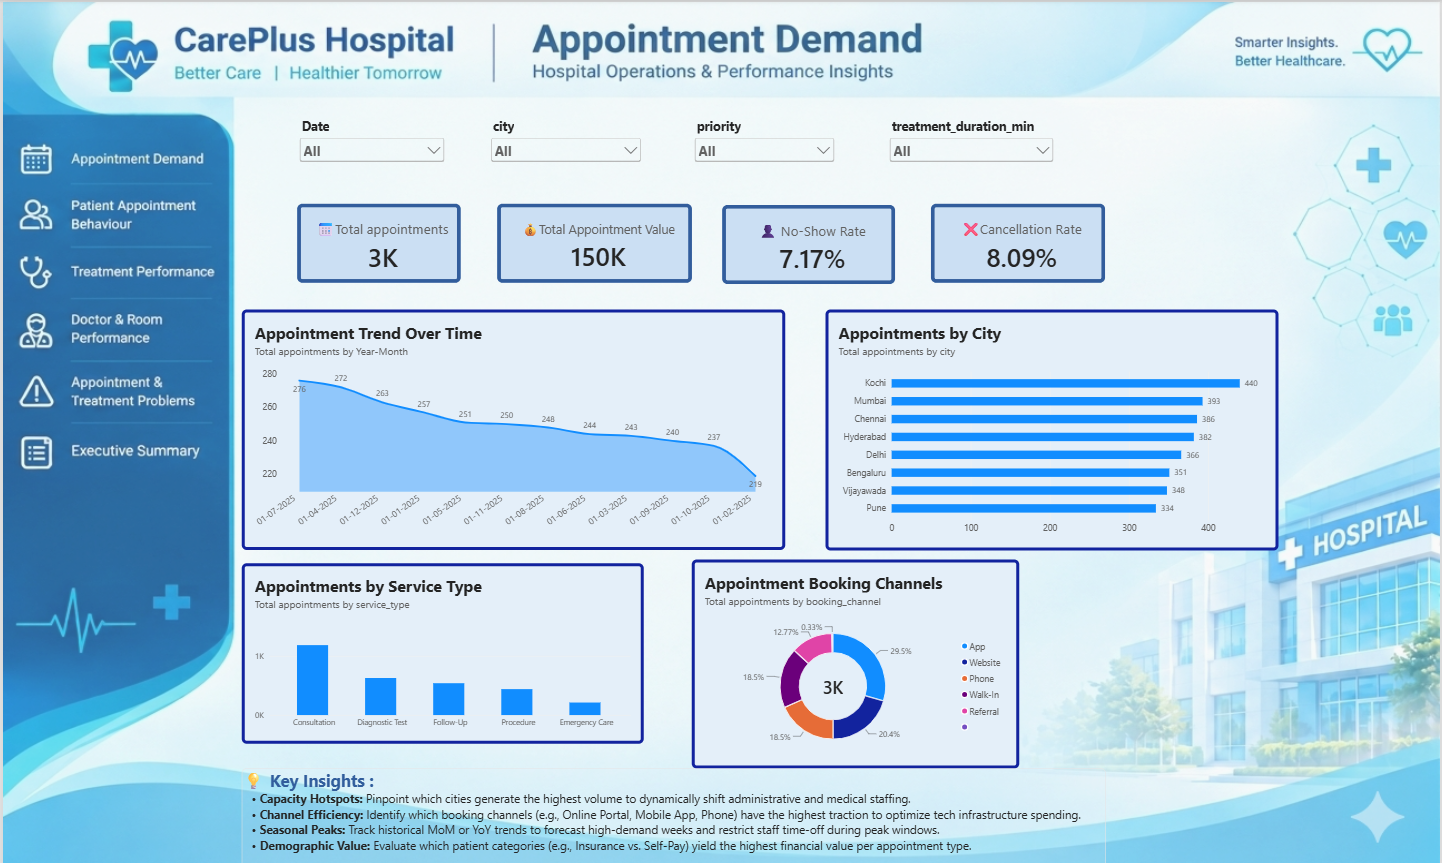

This screenshot's page, from the dashboard's own definition file:
{"tool":"powerbi","page":{"name":"Appointment Demand","canvas":[2300,1400],"ordinal":0},"visuals":[{"type":"cardVisual","fields":{"Data":["_KPI Measures.Total appointments"]},"box":[469.6,321.7,263,128.3],"z":0},{"type":"cardVisual","fields":{"Data":["_KPI Measures.Total Appointment Value"]},"box":[789.1,321.7,313,128.3],"z":1000},{"type":"cardVisual","fields":{"Data":["_KPI Measures.No-Show Rate"]},"box":[1150,323.9,278.3,128.3],"z":2000},{"type":"cardVisual","fields":{"Data":["_KPI Measures.Cancellation Rate"]},"box":[1484.8,321.7,280.4,128.3],"z":3000},{"type":"lineChart","title":"Appointment Trend Over Time","fields":{"Category":["date_table.Year-Month"],"Y":["_KPI Measures.Total appointments"]},"box":[382.6,491.3,869.6,384.8],"z":4000},{"type":"clusteredBarChart","title":"Appointments by City","fields":{"Category":["patients.city"],"Y":["_KPI Measures.Total appointments"]},"box":[1316.7,491.7,725,385.4],"z":5000},{"type":"clusteredColumnChart","title":"Appointments by Service Type","fields":{"Category":["appointments.service_type"],"Y":["_KPI Measures.Total appointments"]},"box":[382.6,897.8,643.5,289.1],"z":5001},{"type":"donutChart","title":"Appointment Booking Channels","fields":{"Category":["appointments.booking_channel"],"Y":["_KPI Measures.Total appointments"]},"box":[1102.2,891.3,523.9,334.8],"z":5002},{"type":"slicer","fields":{"Values":["date_table.Date"]},"box":[469.6,184.8,241.3,115.2],"z":5003},{"type":"slicer","fields":{"Values":["patients.city"]},"box":[776.1,184.8,250,115.2],"z":5004},{"type":"slicer","fields":{"Values":["treatments.treatment_duration_min"]},"box":[1413,184.8,271.7,115.2],"z":5005},{"type":"slicer","fields":{"Values":["appointments.priority"]},"box":[1102.2,184.8,232.6,115.2],"z":5006},{"type":"textbox","box":[250,236,300,150],"z":5008},{"type":"textbox","box":[382,1226,1382,158],"z":5009}]}

Visuals, with their boxes in screenshot pixels (x1, y1, x2, y2), scaled from the page's 2300x1400 canvas onto the 1442x863 screenshot:
cardVisual - _KPI Measures.Total appointments: BBox(294, 198, 459, 277)
cardVisual - _KPI Measures.Total Appointment Value: BBox(495, 198, 691, 277)
cardVisual - _KPI Measures.No-Show Rate: BBox(721, 200, 895, 279)
cardVisual - _KPI Measures.Cancellation Rate: BBox(931, 198, 1107, 277)
"Appointment Trend Over Time" lineChart: BBox(240, 303, 785, 540)
"Appointments by City" clusteredBarChart: BBox(826, 303, 1280, 541)
"Appointments by Service Type" clusteredColumnChart: BBox(240, 553, 643, 732)
"Appointment Booking Channels" donutChart: BBox(691, 549, 1019, 756)
slicer - date_table.Date: BBox(294, 114, 446, 185)
slicer - patients.city: BBox(487, 114, 643, 185)
slicer - treatments.treatment_duration_min: BBox(886, 114, 1056, 185)
slicer - appointments.priority: BBox(691, 114, 837, 185)
textbox: BBox(157, 145, 345, 238)
textbox: BBox(239, 756, 1106, 853)
